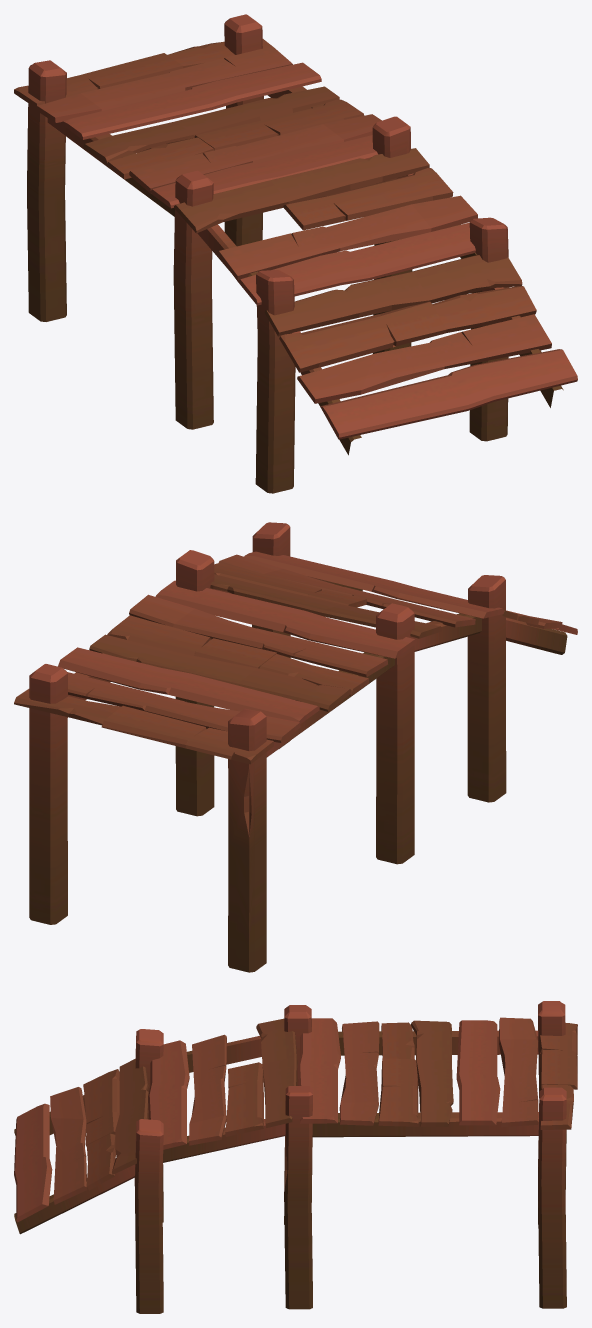
3 views of the same model, one above another, from view 1: azimuth 30°, elevation 25°; view 2: azimuth 150°, elevation 25°; view 3: azimuth 270°, elevation 25° (orthographic). The views are drawn at different scales.
Visible parts, largest first — view 1: PierStart; view 2: PierStart; view 3: PierStart.
Boxes of the visible parts, box(x1,y1,x2,y2) form: PierStart: box(14, 14, 577, 493); PierStart: box(14, 522, 577, 972); PierStart: box(14, 1001, 577, 1313).
Size of the model in its own units: 2.48 by 2.41 by 5.71.
1 material, 1 textured.
